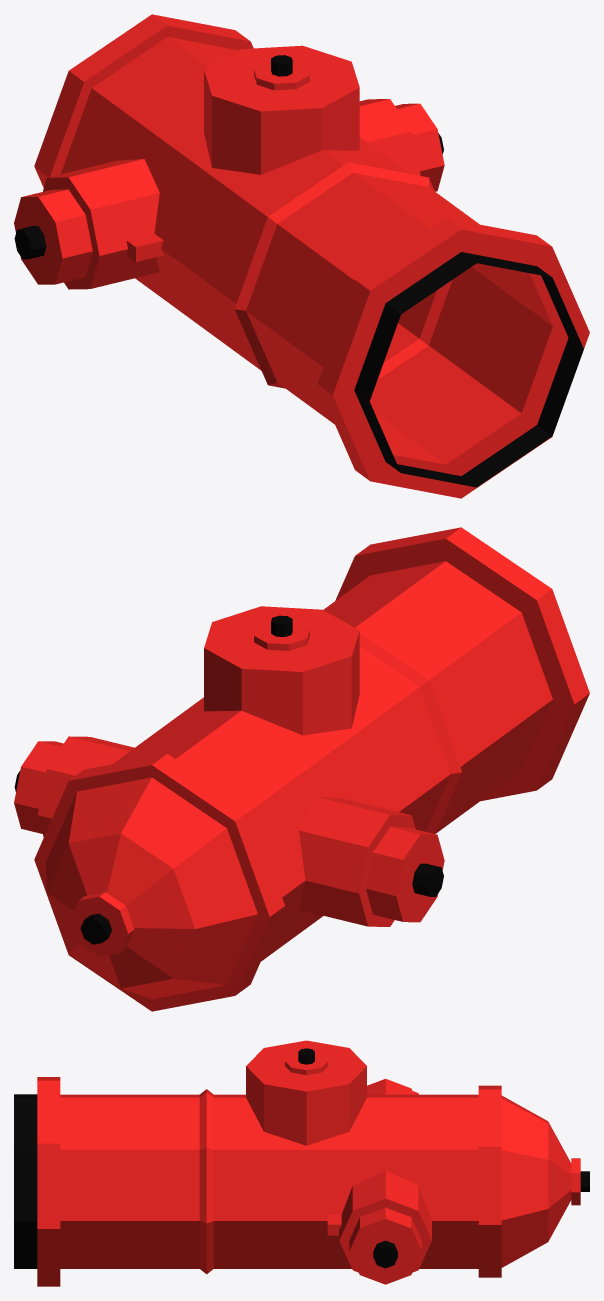
Rendered from Hydrant.fbx.
The picture shows the model from 3 angles, top to bottom: view 1: azimuth 30°, elevation 25°; view 2: azimuth 150°, elevation 25°; view 3: azimuth 270°, elevation 25°; orthographic projection. The views are drawn at different scales.
Visible parts, largest first — view 1: Cylinder; view 2: Cylinder; view 3: Cylinder.
Part boxes in pixels (x1,y1,x2,y2): Cylinder: (14,14,589,498); Cylinder: (14,527,589,1011); Cylinder: (14,1040,589,1286).
Size of the model in its own units: 77.07 by 54.85 by 124.
